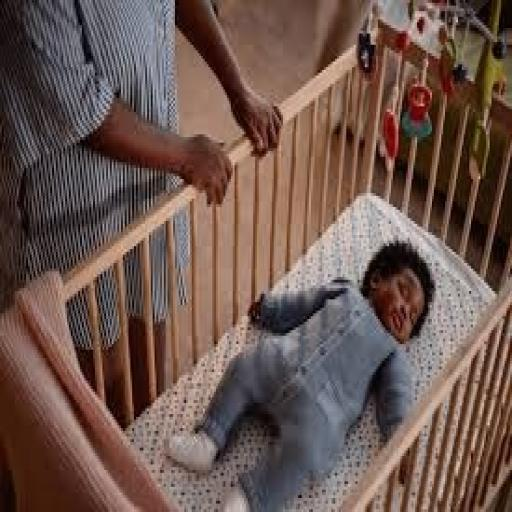baby: (166, 241, 435, 511)
crib: (0, 19, 510, 512)
